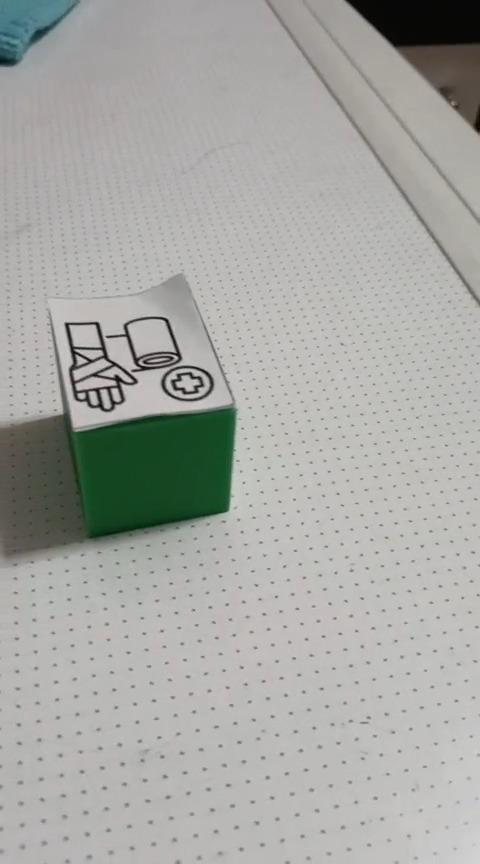Bandages: (45, 271, 237, 538)
